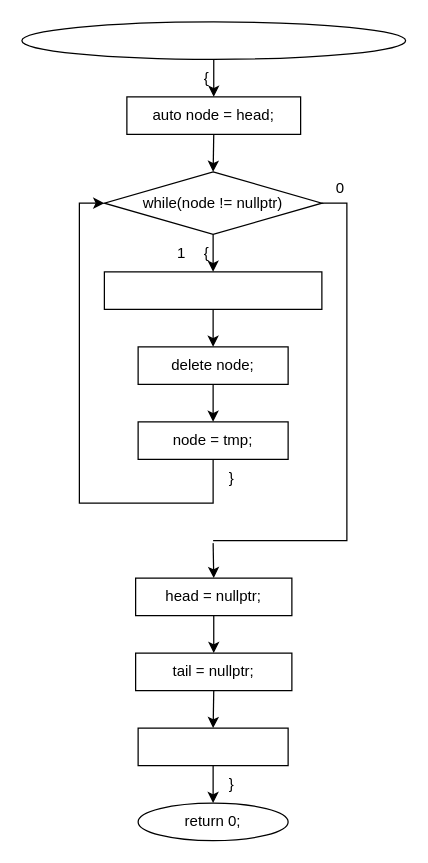
Some shapes in this 428 by 863 pixel diagram are drawn without their labels. Each missing label, with the centre of its shape:
auto tmp = node->next;: the point at 212,290
size = 0;: the point at 212,746
template<class T> void BiList::clear(): the point at 213,40
